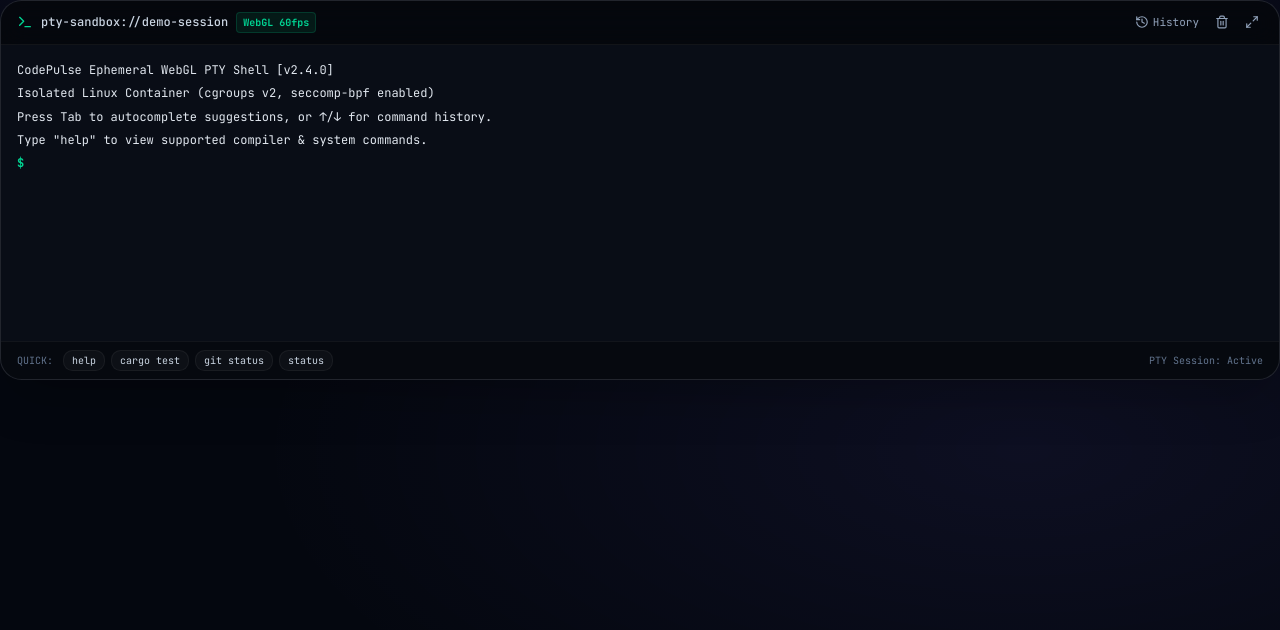
Scenario: WebglTerminal with History and Auto-Suggestions › clears terminal viewport when clear button is clicked
What coordinates should you click on to do the following:
click the button with test id "clear-terminal-btn"
I would click on:
 (1222, 22)
Its box is x1=1211 y1=11 x2=1233 y2=33.
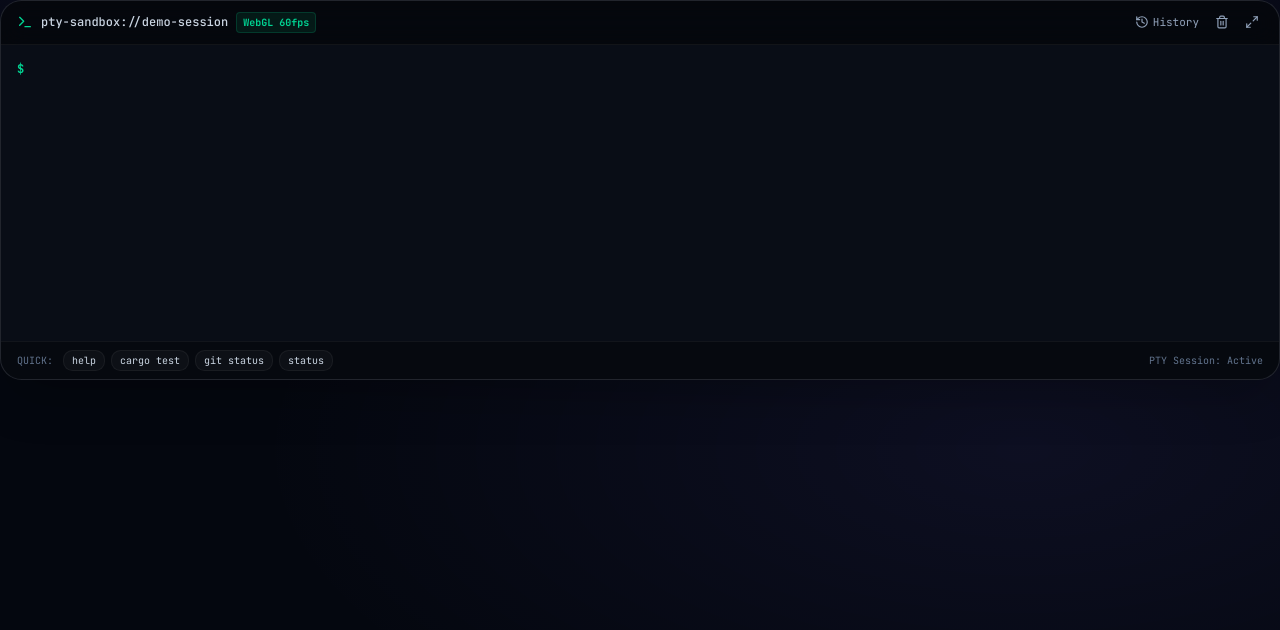
Expected: the text with test id "terminal-viewport" no longer shows "CodePulse Ephemeral WebGL PTY Shell"
